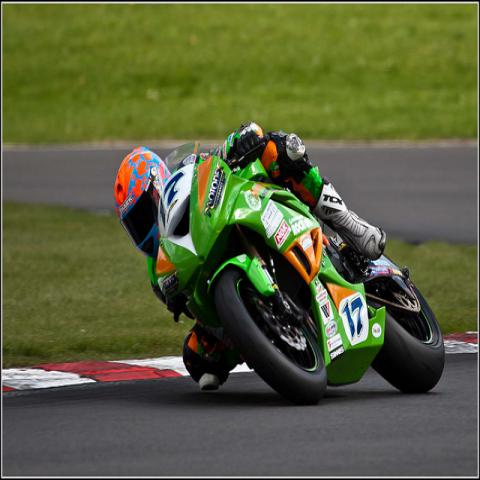motorcycle: (152, 133, 443, 408)
